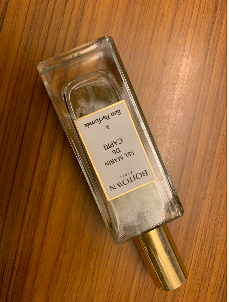Nonfood: (64, 48, 188, 282)
